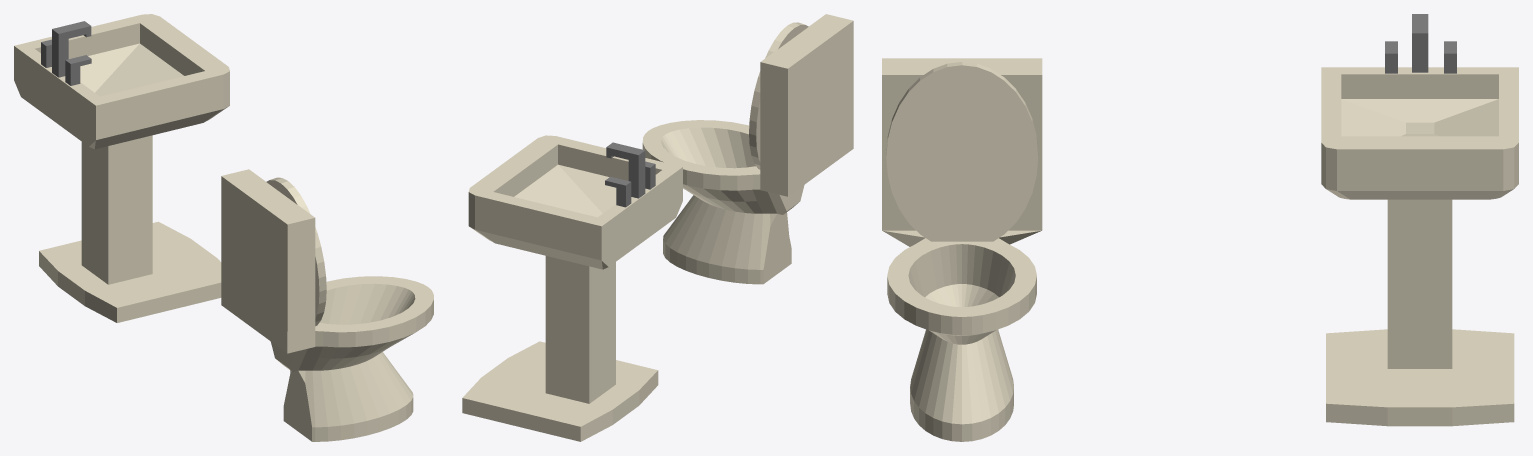
Rendered from toilet + sink.fbx.
The picture shows the model from 3 angles, left to right: view 1: azimuth 30°, elevation 25°; view 2: azimuth 150°, elevation 25°; view 3: azimuth 270°, elevation 25°; orthographic projection. The views are drawn at different scales.
Visible parts, largest first — view 1: Toilet base, Sink top, Sink.Base, Fauset, Toilet lid; view 2: Toilet base, Sink.Base, Sink top, Fauset, Toilet lid; view 3: Toilet base, Sink.Base, Sink top, Toilet lid, Fauset.
Boxes of the visible parts, left/top/right/bottom form: Toilet base: left=221, top=169, right=433, bottom=441; Sink top: left=14, top=14, right=229, bottom=149; Sink.Base: left=39, top=135, right=221, bottom=322; Fauset: left=41, top=21, right=91, bottom=85; Toilet lid: left=266, top=177, right=326, bottom=326; Toilet base: left=642, top=14, right=853, bottom=284; Sink.Base: left=462, top=256, right=658, bottom=441; Sink top: left=468, top=135, right=682, bottom=269; Fauset: left=605, top=142, right=655, bottom=207; Toilet lid: left=749, top=22, right=808, bottom=169; Toilet base: left=882, top=58, right=1042, bottom=441; Sink.Base: left=1326, top=199, right=1514, bottom=426; Sink top: left=1321, top=67, right=1518, bottom=199; Toilet lid: left=886, top=62, right=1038, bottom=241; Fauset: left=1385, top=14, right=1456, bottom=73.
Bounding box in the file's own units: 226 × 322 × 562.
